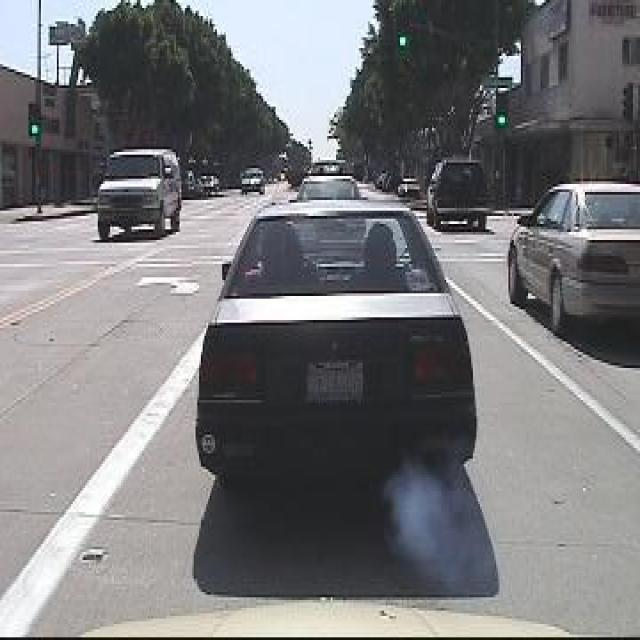car_back: (178, 195, 478, 514), (492, 170, 640, 355), (414, 156, 498, 242)
car_front: (74, 124, 200, 248)
